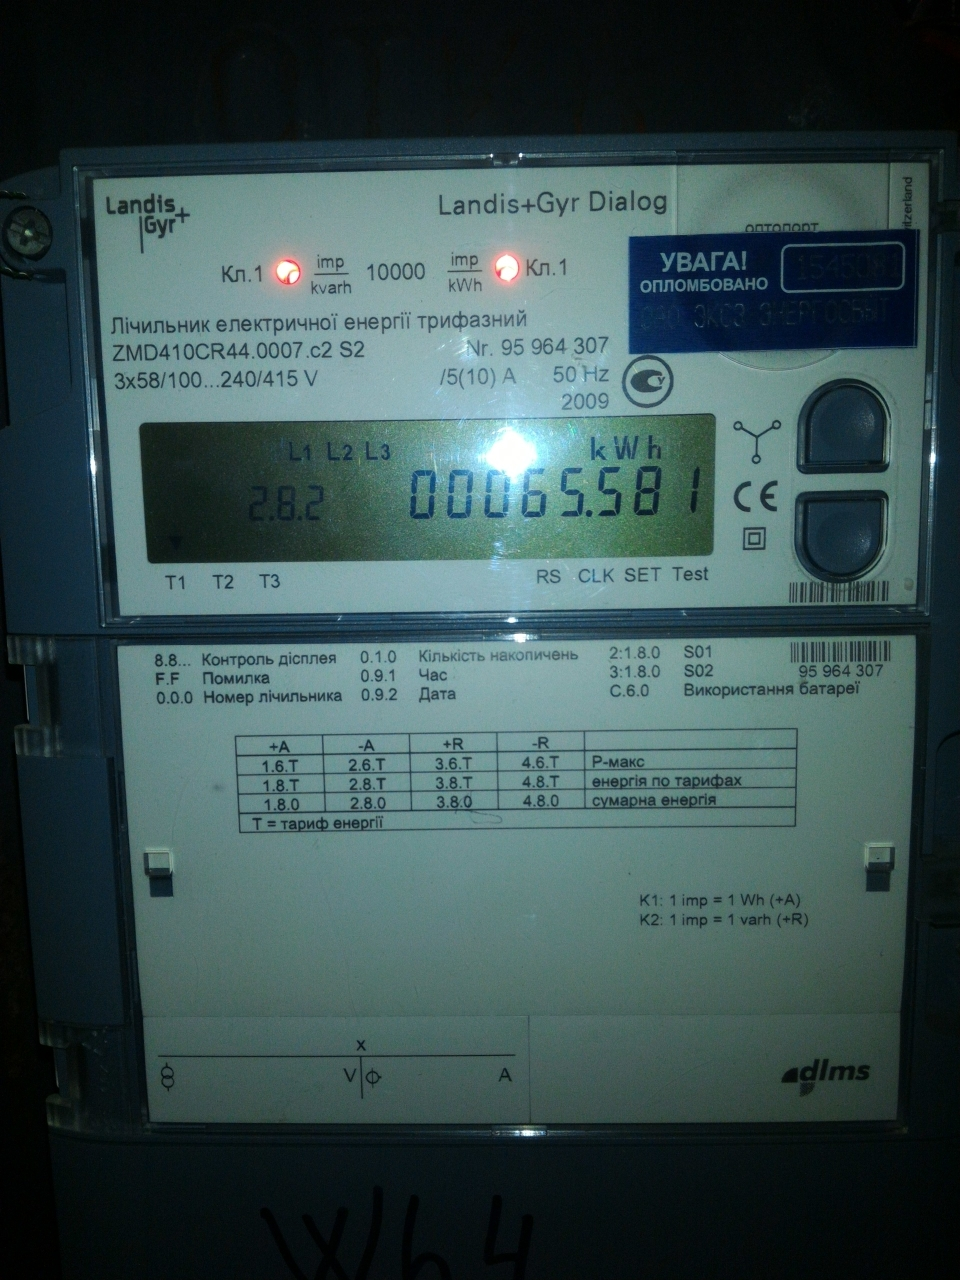screen: (122, 400, 736, 579)
